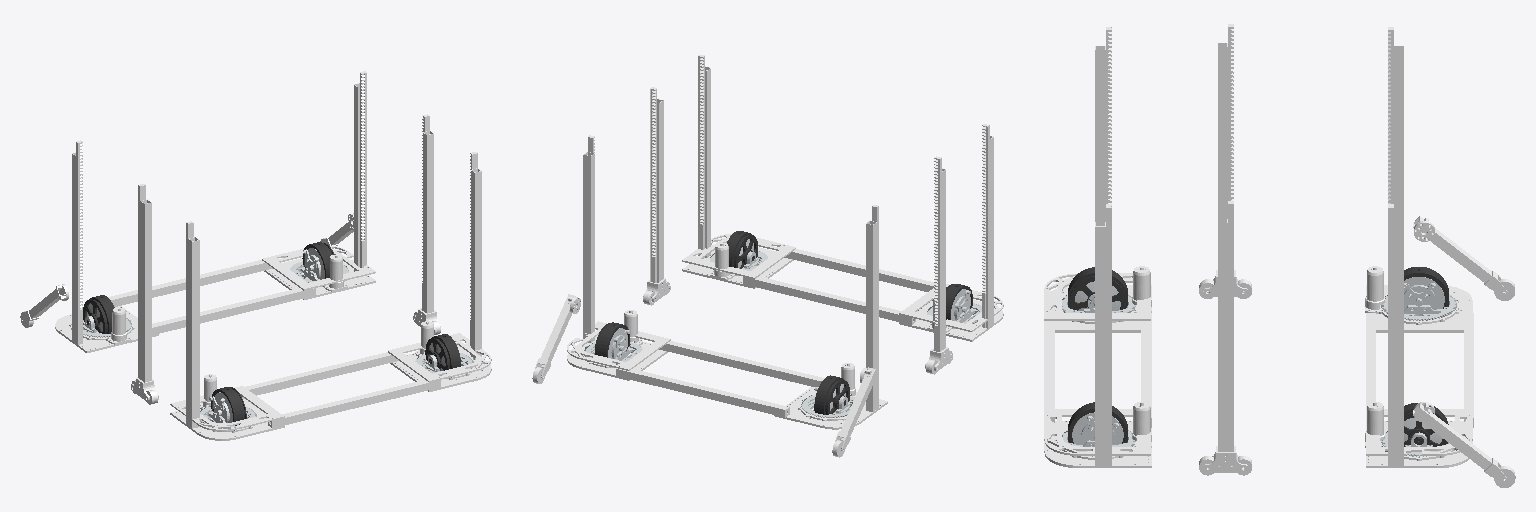
URDF robot description (br):
<robot name="br">
  <link name="base_link">
    <inertial>
      <origin xyz="-0.0104941874573322 0.00894120214595673 0.0153316280803506" rpy="0 0 0" />
      <mass value="4.12809976768818" />
      <inertia ixx="0.01469692224257" ixy="2.17307215639738E-08" ixz="2.36745227382626E-07" iyy="0.0127991164282382" iyz="-6.69960226830507E-06" izz="0.0270682217010851" />
    </inertial>
    <visual>
      <origin xyz="0 0 0" rpy="0 0 0" />
      <geometry>
        <mesh filename="package://br_sim/urdf/meshes/base_link.STL" />
      </geometry>
      <material name="">
        <color rgba="1 1 1 1" />
      </material>
    </visual>
    <collision>
      <!-- 整机唯一碰撞体：box 底面 -0.055 略低于轮子底面 -0.0517，
           由 box 承重；顶面 0.16 低于雷达（z=0.176），避免雷达被包住。
           只用 box 是为了让 ODE 接触稳定、且不产生锁死旋转的摩擦扭矩。 -->
      <origin xyz="0 0 0.0525" rpy="0 0 0" />
      <geometry>
        <box size="0.62 0.72 0.215" />
      </geometry>
    </collision>
  </link>
  <link name="link1_1">
    <visual>
      <origin xyz="0 0 0" rpy="0 0 0" />
      <geometry>
        <mesh filename="package://br_sim/urdf/meshes/front_support/left_arm.stl" />
      </geometry>
      <material name="">
        <color rgba="1 1 1 1" />
      </material>
    </visual>
    <inertial>
      <origin xyz="-0.0494270619221777 0.00879554549824092 -0.0581642445318998" rpy="0 0 0" />
      <mass value="0.0280201406431382" />
      <inertia ixx="7.35551596090098e-06" ixy="1.39070020006676e-07" ixz="-4.78067616631314e-06" iyy="1.19789488190971e-05" iyz="1.63653432710955e-07" izz="5.79231042842305e-06" />
    </inertial>
  </link>
  <joint name="joint1_1" type="fixed">
    <origin xyz="0.317949999999999 0.232500007712663 0.0579999999999996" rpy="1.5707963267949 -1.5707963267949 0" />
    <parent link="base_link" />
    <child link="link1_1" />
  </joint>
  <link name="link2_1">
    <visual>
      <origin xyz="0 0 0" rpy="0 0 0" />
      <geometry>
        <mesh filename="package://br_sim/urdf/meshes/front_support/right_arm.stl" />
      </geometry>
      <material name="">
        <color rgba="1 1 1 1" />
      </material>
    </visual>
    <inertial>
      <origin xyz="-0.0494270623891037 -0.00870248895505554 -0.0581642457923499" rpy="0 0 0" />
      <mass value="0.0280201406431391" />
      <inertia ixx="7.35114693622507e-06" ixy="-2.1914820607603e-07" ixz="-4.78067851562726e-06" iyy="1.19789538829429e-05" iyz="-2.57887015931239e-07" izz="5.78793876529406e-06" />
    </inertial>
  </link>
  <joint name="joint2_1" type="fixed">
    <origin xyz="-0.317750000000001 0.232500007712664 0.0579999999999999" rpy="1.5707963267949 -1.5707963267949 0" />
    <parent link="base_link" />
    <child link="link2_1" />
  </joint>
  <link name="link3_1_1">
    <inertial>
      <origin xyz="0.0116664782562558 -0.0155182624811523 -0.00706589542671332" rpy="0 0 0" />
      <mass value="0.788665603293014" />
      <inertia ixx="0.00398201976780938" ixy="4.73753204013429E-15" ixz="1.03000396120238E-06" iyy="0.00250779382397628" iyz="1.65426720135718E-05" izz="0.00483222236876998" />
    </inertial>
    <visual>
      <origin xyz="0 0 0" rpy="0 0 0" />
      <geometry>
        <mesh filename="package://br_sim/urdf/meshes/link3_1_1.STL" />
      </geometry>
      <material name="">
        <color rgba="1 1 1 1" />
      </material>
    </visual>
  </link>
  <joint name="joint3_1_1" type="fixed">
    <origin xyz="-4.99999999996614E-05 0.2075 0" rpy="1.5707963267949 -1.5707963267949 0" />
    <parent link="base_link" />
    <child link="link3_1_1" />
  </joint>
  <link name="link3_2_1">
    <inertial>
      <origin xyz="0.00355520218783562 -0.000131364230598341 0.000119770378929962" rpy="0 0 0" />
      <mass value="0.179718254061765" />
      <inertia ixx="0.000136129578572082" ixy="1.06854111359834E-07" ixz="5.96716755129148E-09" iyy="0.000110077639257163" iyz="-2.45205766978258E-07" izz="8.25917017461938E-05" />
    </inertial>
    <visual>
      <origin xyz="0 0 0" rpy="0 0 0" />
      <geometry>
        <mesh filename="package://br_sim/urdf/meshes/link3_2_1.STL" />
      </geometry>
      <material name="">
        <color rgba="0.898039215686275 0.917647058823529 0.929411764705882 1" />
      </material>
    </visual>
  </link>
  <joint name="joint3_2_1" type="fixed">
    <origin xyz="-0.0191749999999914 -0.225000000000011 -0.0175000000000054" rpy="0 0 0" />
    <parent link="link3_1_1" />
    <child link="link3_2_1" />
  </joint>
  <link name="link3_2_2">
    <inertial>
      <origin xyz="-3.88933546497383E-05 -0.0210397291074122 1.59962135226621E-06" rpy="0 0 0" />
      <mass value="0.0889749821511124" />
      <inertia ixx="5.62779935765416E-05" ixy="2.20647474468985E-12" ixz="-2.50807988633272E-12" iyy="0.000104292438643698" iyz="-7.14739929142528E-10" izz="5.6143561475795E-05" />
    </inertial>
    <visual>
      <origin xyz="0 0 0" rpy="0 0 0" />
      <geometry>
        <mesh filename="package://br_sim/urdf/meshes/link3_2_2.STL" />
      </geometry>
      <material name="">
        <color rgba="0.298039215686275 0.298039215686275 0.298039215686275 1" />
      </material>
    </visual>
  </link>
  <joint name="joint3_2_2" type="continuous">
    <origin xyz="0.00999999999998635 0.0138000000000051 0" rpy="0 0 0" />
    <parent link="link3_2_1" />
    <child link="link3_2_2" />
    <axis xyz="0 1 0" />
    <dynamics damping="0.001" friction="0.0" />
    <limit effort="5.0" velocity="8.0" />
  </joint>
  <link name="link3_3_1">
    <inertial>
      <origin xyz="0.00374615809944345 0.000368327372161303 0.000120821347111333" rpy="0 0 0" />
      <mass value="0.178152761460902" />
      <inertia ixx="0.000135350138918116" ixy="-9.82426890475265E-08" ixz="5.96816416335317E-09" iyy="0.00010927134452101" iyz="2.4520578632199E-07" izz="8.25518489816039E-05" />
    </inertial>
    <visual>
      <origin xyz="0 0 0" rpy="0 0 0" />
      <geometry>
        <mesh filename="package://br_sim/urdf/meshes/link3_3_1.STL" />
      </geometry>
      <material name="">
        <color rgba="0.898039215686275 0.917647058823529 0.929411764705882 1" />
      </material>
    </visual>
  </link>
  <joint name="joint3_3_1" type="fixed">
    <origin xyz="-0.0191749999999912 0.224700000000008 -0.017500000000005" rpy="0 0 0" />
    <parent link="link3_1_1" />
    <child link="link3_3_1" />
  </joint>
  <link name="link3_3_2">
    <inertial>
      <origin xyz="-3.88893877905638E-05 0.0210397448028213 1.57981095139093E-06" rpy="0 0 0" />
      <mass value="0.0889749941144419" />
      <inertia ixx="5.62779943455652E-05" ixy="-6.14340891533126E-13" ixz="-7.23584333264631E-12" iyy="0.000104292450540725" iyz="7.15185421053288E-10" izz="5.61435726718154E-05" />
    </inertial>
    <visual>
      <origin xyz="0 0 0" rpy="0 0 0" />
      <geometry>
        <mesh filename="package://br_sim/urdf/meshes/link3_3_2.STL" />
      </geometry>
      <material name="">
        <color rgba="0.298039215686275 0.298039215686275 0.298039215686275 1" />
      </material>
    </visual>
  </link>
  <joint name="joint3_3_2" type="continuous">
    <origin xyz="0.00999999999998591 -0.0138000000000053 0" rpy="0 0 0" />
    <parent link="link3_3_1" />
    <child link="link3_3_2" />
    <axis xyz="0 -1 0" />
    <dynamics damping="0.001" friction="0.0" />
    <limit effort="5.0" velocity="8.0" />
  </joint>
  <link name="link4_1">
    <inertial>
      <origin xyz="0.000100000000001321 -0.0454618323334954 0.084705968903574" rpy="0 0 0" />
      <mass value="0.238767567799155" />
      <inertia ixx="0.00169017811257077" ixy="-1.95663120028074E-21" ixz="-1.06225572173344E-19" iyy="0.00167653238604338" iyz="7.9589481403557E-07" izz="2.18578155398606E-05" />
    </inertial>
    <visual>
      <origin xyz="0 0 0" rpy="0 0 0" />
      <geometry>
        <mesh filename="package://br_sim/urdf/meshes/link4_1.STL" />
      </geometry>
      <material name="">
        <color rgba="1 1 1 1" />
      </material>
    </visual>
  </link>
  <joint name="joint4_1" type="fixed">
    <origin xyz="0 0 0" rpy="0 0 0" />
    <parent link="base_link" />
    <child link="link4_1" />
  </joint>
  <link name="link5_1_1">
    <inertial>
      <origin xyz="0.0103450524834708 9.04640123422507E-05 0.0112172871692453" rpy="0 0 0" />
      <mass value="0.844102629358632" />
      <inertia ixx="0.0042855694311282" ixy="-4.73798350684287E-15" ixz="-1.03000396119949E-06" iyy="0.00266028015640331" iyz="3.15596500520637E-16" izz="0.00498336887358115" />
    </inertial>
    <visual>
      <origin xyz="0 0 0" rpy="0 0 0" />
      <geometry>
        <mesh filename="package://br_sim/urdf/meshes/link5_1_1.STL" />
      </geometry>
      <material name="">
        <color rgba="1 1 1 1" />
      </material>
    </visual>
  </link>
  <joint name="joint5_1_1" type="fixed">
    <origin xyz="0.000150000000000206 -0.207499999999999 0" rpy="1.5707963267949 -1.5707963267949 0" />
    <parent link="base_link" />
    <child link="link5_1_1" />
  </joint>
  <link name="link5_2_1">
    <inertial>
      <origin xyz="0.00372877931610188 0.000368327669866941 5.96139246356042E-06" rpy="0 0 0" />
      <mass value="0.1781527614609" />
      <inertia ixx="0.000135289723728495" ixy="-9.90307432380291E-08" ixz="-1.91084686720475E-07" iyy="0.000109271344521015" iyz="2.40028430503553E-07" izz="8.26122641712176E-05" />
    </inertial>
    <visual>
      <origin xyz="0 0 0" rpy="0 0 0" />
      <geometry>
        <mesh filename="package://br_sim/urdf/meshes/link5_2_1.STL" />
      </geometry>
      <material name="">
        <color rgba="0.898039215686275 0.917647058823529 0.929411764705882 1" />
      </material>
    </visual>
  </link>
  <joint name="joint5_2_1" type="fixed">
    <origin xyz="-0.0191749999999844 -0.224799999999998 0.0174999999999981" rpy="0 0 0" />
    <parent link="link5_1_1" />
    <child link="link5_2_1" />
  </joint>
  <link name="link5_2_2">
    <inertial>
      <origin xyz="-3.84179103837257E-05 0.0210397416085224 1.52112439011365E-06" rpy="0 0 0" />
      <mass value="0.0889749941227164" />
      <inertia ixx="5.62784525346375E-05" ixy="2.11255809061725E-10" ixz="1.48018304857176E-09" iyy="0.000104292450558982" iyz="6.83292265116555E-10" izz="5.61431145010192E-05" />
    </inertial>
    <visual>
      <origin xyz="0 0 0" rpy="0 0 0" />
      <geometry>
        <mesh filename="package://br_sim/urdf/meshes/link5_2_2.STL" />
      </geometry>
      <material name="">
        <color rgba="0.298039215686275 0.298039215686275 0.298039215686275 1" />
      </material>
    </visual>
  </link>
  <joint name="joint5_2_2" type="continuous">
    <origin xyz="0.0099999999999838 -0.0138000000000057 0" rpy="0 0 0" />
    <parent link="link5_2_1" />
    <child link="link5_2_2" />
    <axis xyz="0 -1 0" />
    <dynamics damping="0.001" friction="0.0" />
    <limit effort="5.0" velocity="8.0" />
  </joint>
  <link name="link5_3_1">
    <inertial>
      <origin xyz="0.00380078098908176 -0.000943737466362005 5.66962171832941E-06" rpy="0 0 0" />
      <mass value="0.187337128560931" />
      <inertia ixx="0.00013645644250061" ixy="1.07642165550892E-07" ixz="-1.91085683332366E-07" iyy="0.000110712459188732" iyz="-2.40028411152961E-07" izz="8.30393960539557E-05" />
    </inertial>
    <visual>
      <origin xyz="0 0 0" rpy="0 0 0" />
      <geometry>
        <mesh filename="package://br_sim/urdf/meshes/link5_3_1.STL" />
      </geometry>
      <material name="">
        <color rgba="0.898039215686275 0.917647058823529 0.929411764705882 1" />
      </material>
    </visual>
  </link>
  <joint name="joint5_3_1" type="fixed">
    <origin xyz="-0.0191749999999905 0.224899999999996 0.0174999999999982" rpy="0 0 0" />
    <parent link="link5_1_1" />
    <child link="link5_3_1" />
  </joint>
  <link name="link5_3_2">
    <inertial>
      <origin xyz="-3.84218806924741E-05 -0.0210397440864145 1.51836401951488E-06" rpy="0 0 0" />
      <mass value="0.0889749821412798" />
      <inertia ixx="5.62784517687033E-05" ixy="-2.09651861652698E-10" ixz="1.48492457954077E-09" iyy="0.000104292438652983" iyz="-6.82848337849084E-10" izz="5.61431032928303E-05" />
    </inertial>
    <visual>
      <origin xyz="0 0 0" rpy="0 0 0" />
      <geometry>
        <mesh filename="package://br_sim/urdf/meshes/link5_3_2.STL" />
      </geometry>
      <material name="">
        <color rgba="0.298039215686275 0.298039215686275 0.298039215686275 1" />
      </material>
    </visual>
  </link>
  <joint name="joint5_3_2" type="continuous">
    <origin xyz="0.00999999999999046 0.0138000000000037 0" rpy="0 0 0" />
    <parent link="link5_3_1" />
    <child link="link5_3_2" />
    <axis xyz="0 1 0" />
    <dynamics damping="0.001" friction="0.0" />
    <limit effort="5.0" velocity="8.0" />
  </joint>
  <link name="mid360_link">
    <inertial>
      <origin xyz="0 0 0" rpy="0 0 0" />
      <mass value="0.265" />
      <inertia ixx="0.0002" ixy="0" ixz="0" iyy="0.0002" iyz="0" izz="0.0002" />
    </inertial>
    <visual>
      <origin xyz="0 0 0" rpy="1.57079632679 0 0" />
      <geometry>
        <mesh filename="package://br_sim/urdf/meshes/mid360_housing.stl" scale="0.001 0.001 0.001" />
      </geometry>
      <material name="mid360_housing_mat">
        <color rgba="0.32 0.35 0.38 1" />
      </material>
    </visual>
    <visual>
      <origin xyz="0 0 0" rpy="1.57079632679 0 0" />
      <geometry>
        <mesh filename="package://br_sim/urdf/meshes/mid360_dome.stl" scale="0.001 0.001 0.001" />
      </geometry>
      <material name="mid360_dome_mat">
        <color rgba="0.055 0.06 0.065 1" />
      </material>
    </visual>
  </link>
  <joint name="mid360_joint" type="fixed">
    <origin xyz="-0.19755 -0.25764 0.17592" rpy="0 0 0" />
    <parent link="base_link" />
    <child link="mid360_link" />
  </joint>
  <gazebo reference="link3_2_2">
    <mu1>1.0</mu1>
    <mu2>1.0</mu2>
  </gazebo>
  <gazebo reference="link3_3_2">
    <mu1>1.0</mu1>
    <mu2>1.0</mu2>
  </gazebo>
  <gazebo reference="link5_2_2">
    <mu1>1.0</mu1>
    <mu2>1.0</mu2>
  </gazebo>
  <gazebo reference="link5_3_2">
    <mu1>1.0</mu1>
    <mu2>1.0</mu2>
  </gazebo>
  <link name="front_support_left_wheel">
    <inertial>
      <origin xyz="0 0 0" rpy="0 0 0" />
      <mass value="0.00311334896034869" />
      <inertia ixx="2.08075465315429e-07" ixy="0" ixz="0" iyy="3.64261786027615e-07" iyz="0" izz="2.08075465315429e-07" />
    </inertial>
    <visual>
      <origin xyz="0 0 0" rpy="0 0 0" />
      <geometry>
        <mesh filename="package://br_sim/urdf/meshes/front_support/left_wheel.stl" />
      </geometry>
      <material name="cad_wheel">
        <color rgba="1 1 1 1" />
      </material>
    </visual>
  </link>
  <joint name="front_support_left_wheel_joint" type="continuous">
    <parent link="link1_1" />
    <child link="front_support_left_wheel" />
    <origin xyz="-0.0957517298733054 0.00783916853833944 -0.112677728400114" rpy="0 0 0" />
    <axis xyz="0 1 0" />
    <dynamics damping="0.000001" friction="0.0" />
  </joint>
  <gazebo reference="front_support_left_wheel">
    <mu1>1.0</mu1>
    <mu2>1.0</mu2>
  </gazebo>
  <link name="front_support_right_wheel">
    <inertial>
      <origin xyz="0 0 0" rpy="0 0 0" />
      <mass value="0.00311334896034879" />
      <inertia ixx="2.08075463574203e-07" ixy="0" ixz="0" iyy="3.64261784961438e-07" iyz="0" izz="2.08075463574203e-07" />
    </inertial>
    <visual>
      <origin xyz="0 0 0" rpy="0 0 0" />
      <geometry>
        <mesh filename="package://br_sim/urdf/meshes/front_support/right_wheel.stl" />
      </geometry>
      <material name="cad_wheel">
        <color rgba="1 1 1 1" />
      </material>
    </visual>
  </link>
  <joint name="front_support_right_wheel_joint" type="continuous">
    <parent link="link2_1" />
    <child link="front_support_right_wheel" />
    <origin xyz="-0.0957517256709684 -0.00712918792851269 -0.112677717056054" rpy="0 0 0" />
    <axis xyz="0 1 0" />
    <dynamics damping="0.000001" friction="0.0" />
  </joint>
  <gazebo reference="front_support_right_wheel">
    <mu1>1.0</mu1>
    <mu2>1.0</mu2>
  </gazebo>
  <!-- ==================== 仿真传感器与驱动插件（SLAM 导航用） ==================== -->

  <!-- MID360 激光雷达传感器（360°、40m 量程） -->
  <gazebo reference="mid360_link">
    <sensor name="mid360_lidar" type="ray">
      <pose>0 0 0 0 0 0</pose>
      <always_on>true</always_on>
      <update_rate>10.0</update_rate>
      <ray>
        <scan>
          <horizontal>
            <samples>360</samples>
            <resolution>1</resolution>
            <min_angle>-3.141592653589793</min_angle>
            <max_angle>3.141592653589793</max_angle>
          </horizontal>
        </scan>
        <range>
          <min>0.15</min>
          <max>40.0</max>
          <resolution>0.01</resolution>
        </range>
        <noise>
          <type>gaussian</type>
          <mean>0.0</mean>
          <stddev>0.01</stddev>
        </noise>
      </ray>
      <plugin name="mid360_lidar_plugin" filename="libgazebo_ros_ray_sensor.so">
        <ros>
          <remapping>~/out:=/scan</remapping>
        </ros>
        <output_type>sensor_msgs/LaserScan</output_type>
        <frame_name>mid360_link</frame_name>
      </plugin>
    </sensor>
  </gazebo>

  <!-- IMU 惯性测量单元 -->
  <gazebo reference="base_link">
    <!-- 机器人由 planar_move（运动学插件）用 SetLinearVel/SetAngularVel 驱动。
         ODE 的接触摩擦是唯一会「吃掉」设定速度的因素：μ=1.0 时 6 个轮子 +
         底盘大面积贴地，摩擦力矩直接把 SetAngularVel 抹平（实测 wz=1.0 rad/s
         走 3 s，真实 yaw 只变化 0.08 rad）。这里 μ 设为 0，并给较硬的接触参数
         防止零摩擦下回弹/穿刺导致翻车。 -->
    <mu1>0.0</mu1>
    <mu2>0.0</mu2>
    <kp>1000000.0</kp>
    <kd>100.0</kd>
    <minDepth>0.001</minDepth>
    <maxVel>0.1</maxVel>
    <sensor name="imu_sensor" type="imu">
      <always_on>true</always_on>
      <update_rate>100.0</update_rate>
      <plugin name="imu_plugin" filename="libgazebo_ros_imu_sensor.so">
        <ros>
          <remapping>~/out:=/imu</remapping>
        </ros>
        <frame_name>base_link</frame_name>
      </plugin>
    </sensor>
  </gazebo>

  <!-- 全向运动插件：接收 cmd_vel(vx,vy,wz)，发布 odom 和 TF odom->base_link -->
  <gazebo>
    <plugin name="planar_move" filename="libgazebo_ros_planar_move.so">
      <odometry_frame>odom</odometry_frame>
      <robot_base_frame>base_link</robot_base_frame>
      <update_rate>100.0</update_rate>
      <publish_rate>50.0</publish_rate>
      <publish_odom>true</publish_odom>
      <publish_odom_tf>true</publish_odom_tf>
    </plugin>
  </gazebo>

</robot>

--- What the picture shows (computed from the rendered views, not written in the file) ---
3 views of the same robot in one strip: view 1: azimuth 30°, elevation 25°; view 2: azimuth 150°, elevation 25°; view 3: azimuth 270°, elevation 25° (orthographic).
Robot: br — 17 links, 16 joints (6 continuous, 10 fixed); root link base_link; default pose: every joint at zero.
Visible links, largest first — view 1: link5_1_1, link3_1_1, link4_1, link5_2_2, link3_3_2, link3_2_1, link5_3_1, link2_1, link5_3_2; view 2: link5_1_1, link3_1_1, link4_1, link1_1, link2_1, link3_3_2, link3_2_1, link5_2_2, link5_3_1, link3_3_1, link3_2_2; view 3: link5_1_1, link3_1_1, link4_1, link3_3_1, link1_1, link2_1, link5_2_1, link5_3_2, link5_3_1, link3_2_2, link5_2_2, link3_2_1 (+1 smaller).
Link boxes in pixels (box(x1,y1,x2,y2)): link5_1_1: box(170, 152, 491, 440); link3_1_1: box(55, 71, 375, 352); link4_1: box(131, 114, 440, 404); link5_2_2: box(425, 334, 460, 370); link3_3_2: box(83, 295, 114, 333); link3_2_1: box(290, 248, 348, 282); link5_3_1: box(200, 392, 256, 428); link2_1: box(22, 284, 68, 322); link5_3_2: box(211, 387, 246, 425); link5_1_1: box(682, 55, 1003, 341); link3_1_1: box(567, 135, 887, 429); link4_1: box(643, 87, 952, 374); link1_1: box(535, 294, 580, 378); link2_1: box(835, 367, 877, 451); link3_3_2: box(814, 375, 849, 414); link3_2_1: box(584, 328, 642, 364); link5_2_2: box(727, 231, 757, 268); link5_3_1: box(927, 289, 981, 323); link3_3_1: box(801, 384, 854, 417); link3_2_2: box(595, 322, 629, 357); link5_1_1: box(1044, 27, 1151, 467); link3_1_1: box(1365, 27, 1473, 467); link4_1: box(1199, 24, 1251, 475); link3_3_1: box(1381, 277, 1456, 320); link1_1: box(1413, 402, 1507, 482); link2_1: box(1413, 216, 1507, 295); link5_2_1: box(1062, 412, 1135, 456); link5_3_2: box(1068, 267, 1127, 310); link5_3_1: box(1062, 281, 1135, 312); link3_2_2: box(1404, 403, 1448, 446); link5_2_2: box(1068, 402, 1127, 443); link3_2_1: box(1381, 418, 1449, 456).
Size in the robot's own frame: 0.6397 by 0.6602 by 0.4319 metres.
15 mesh visuals loaded from 18 distinct referenced files (15 binary STL); not drawn: 3 (reference not matched to a file when rendering).
